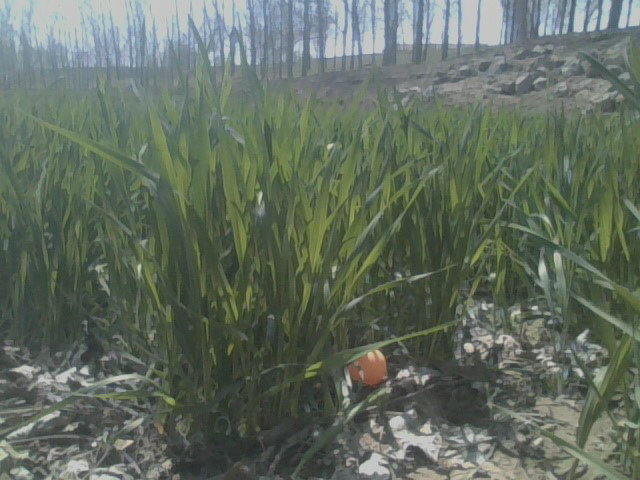ball: (349, 348, 390, 386)
